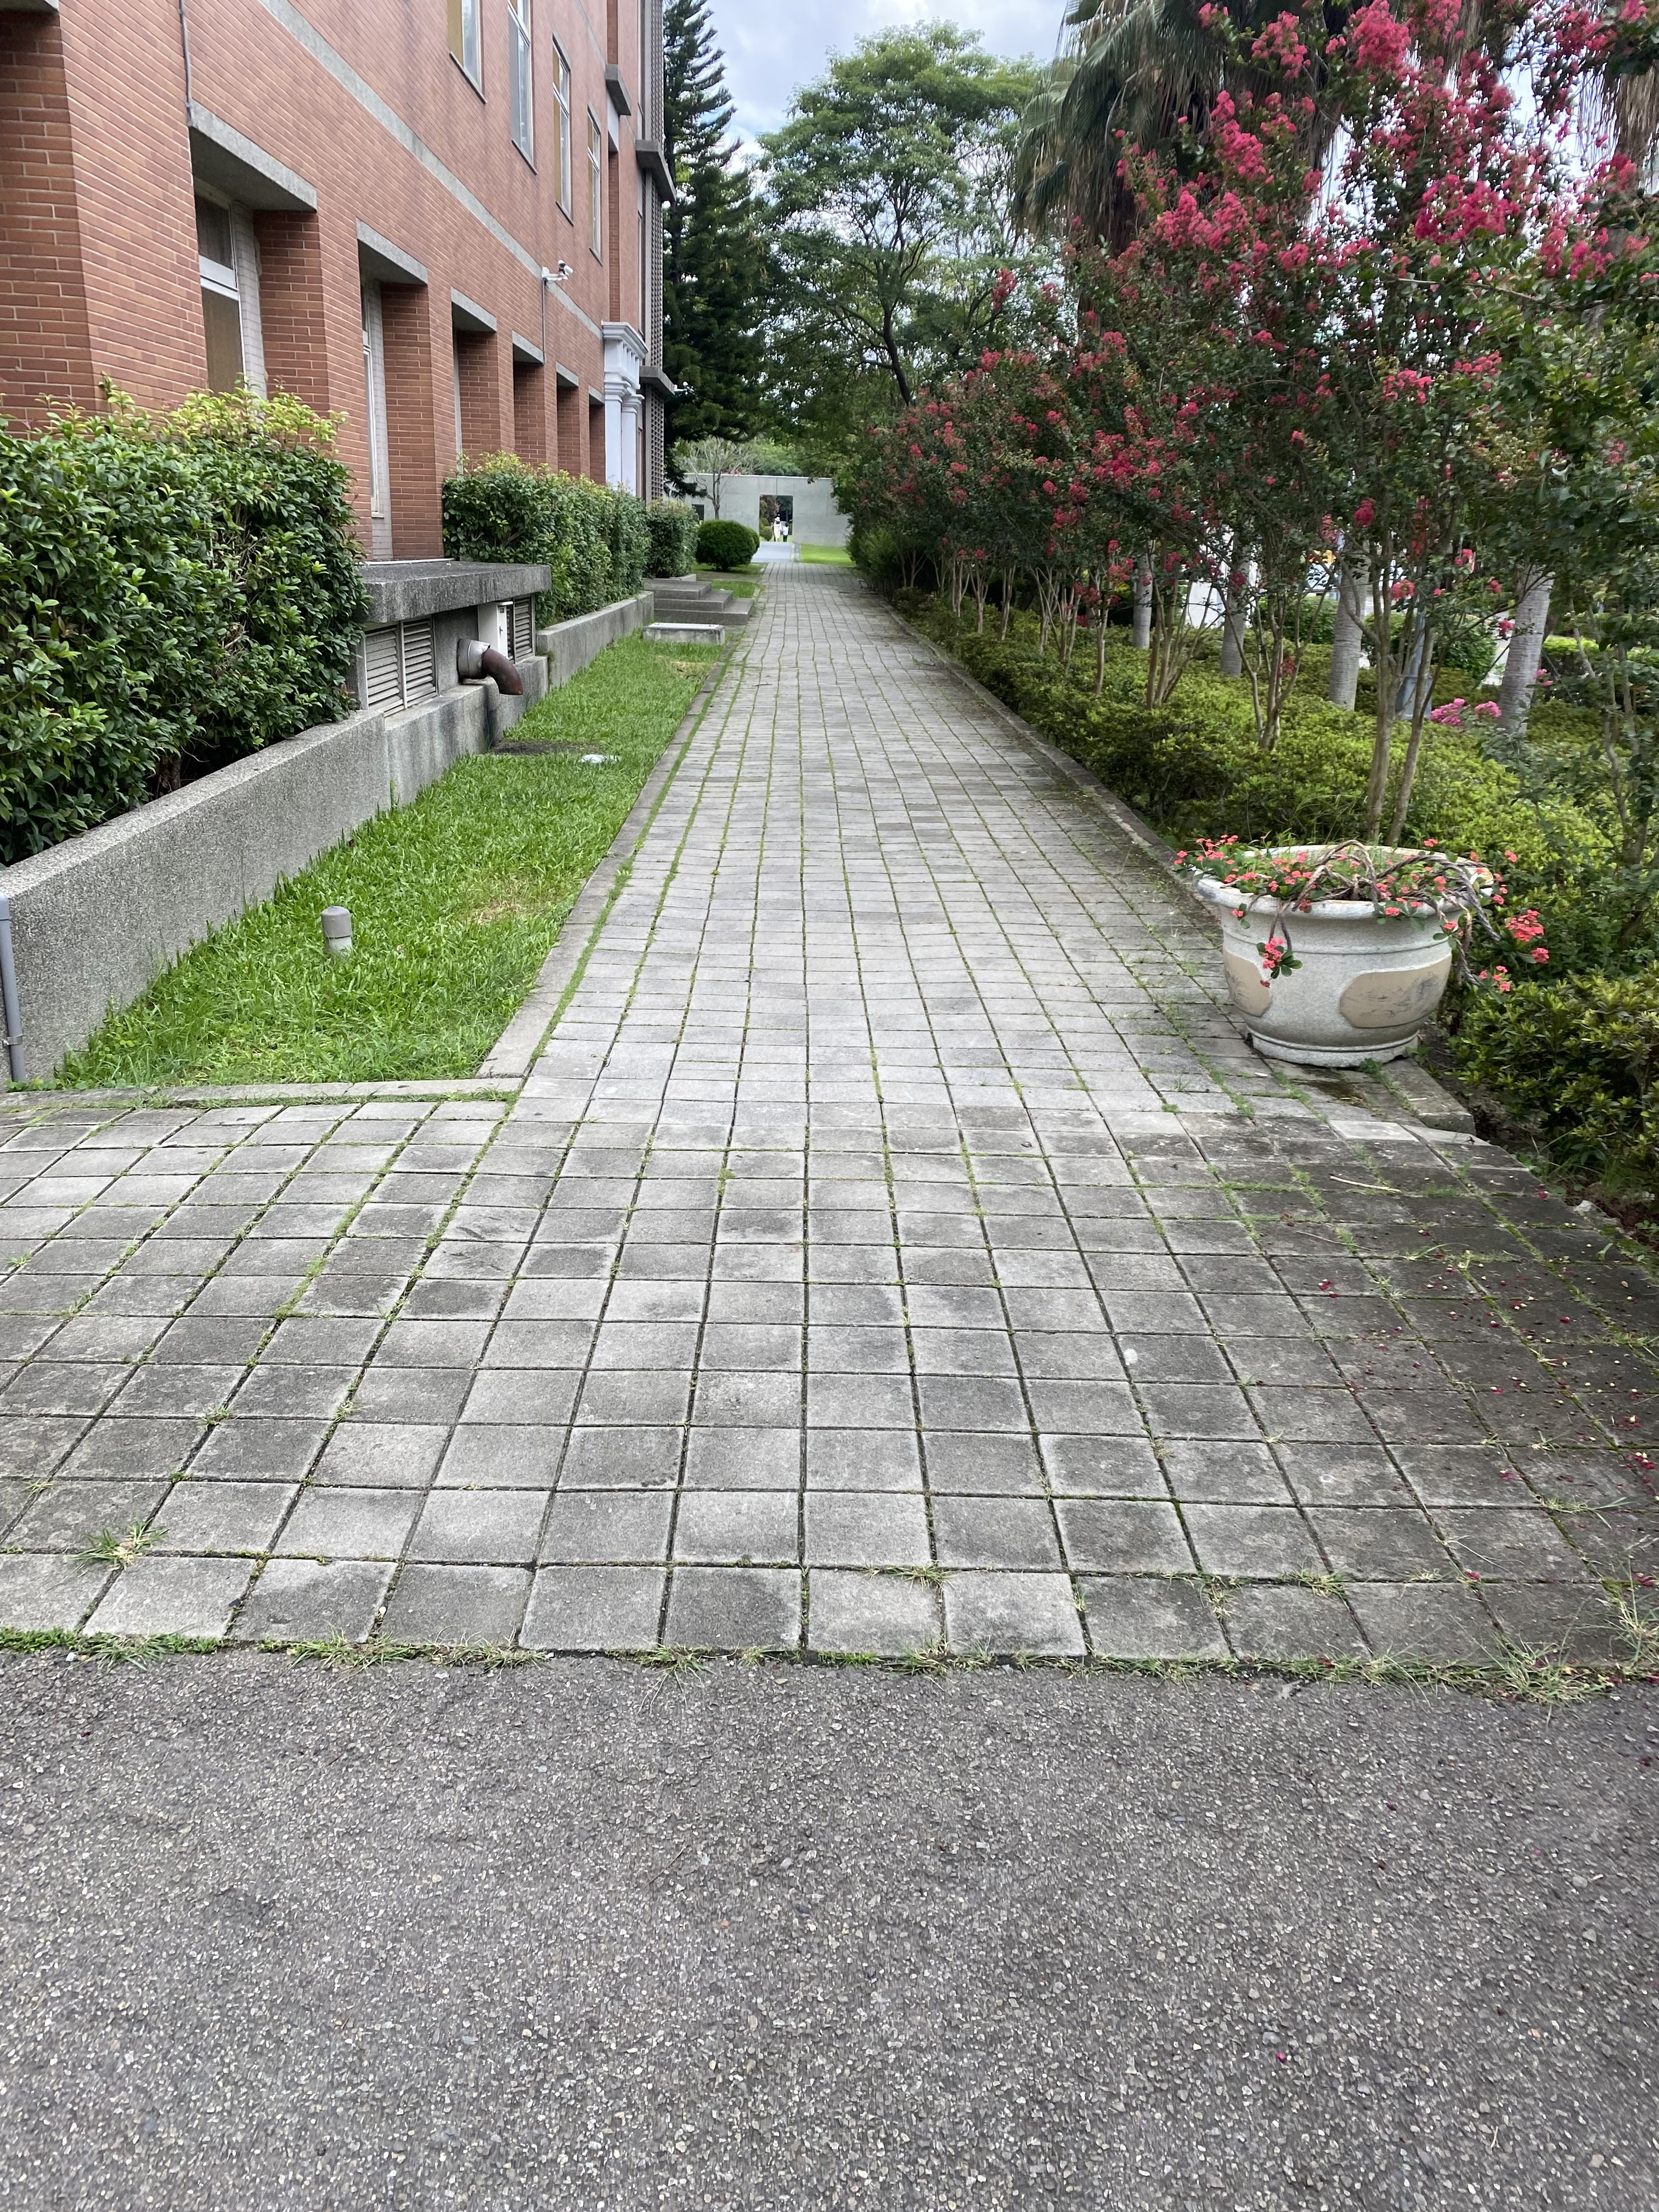sidewalk: (429, 521, 1608, 1890)
